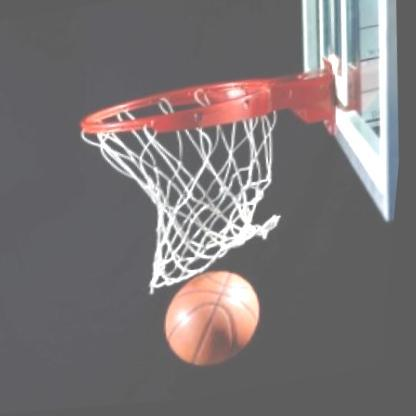basketball: (155, 258, 279, 380)
